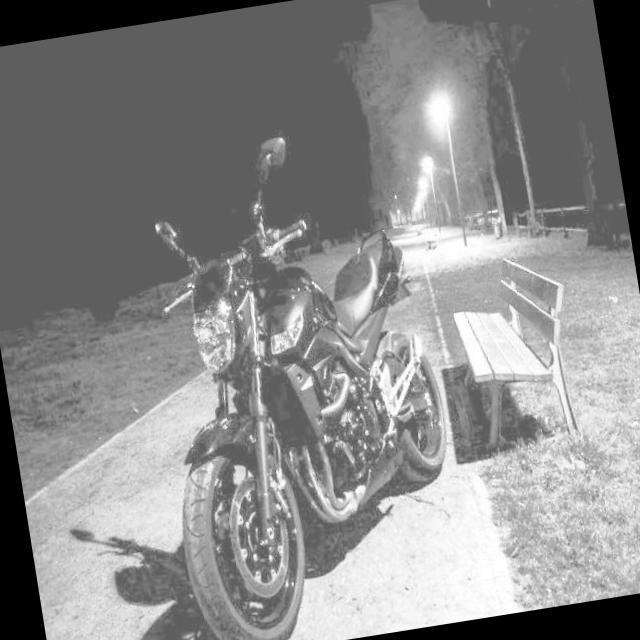Motorcycle: (101, 102, 477, 640)
